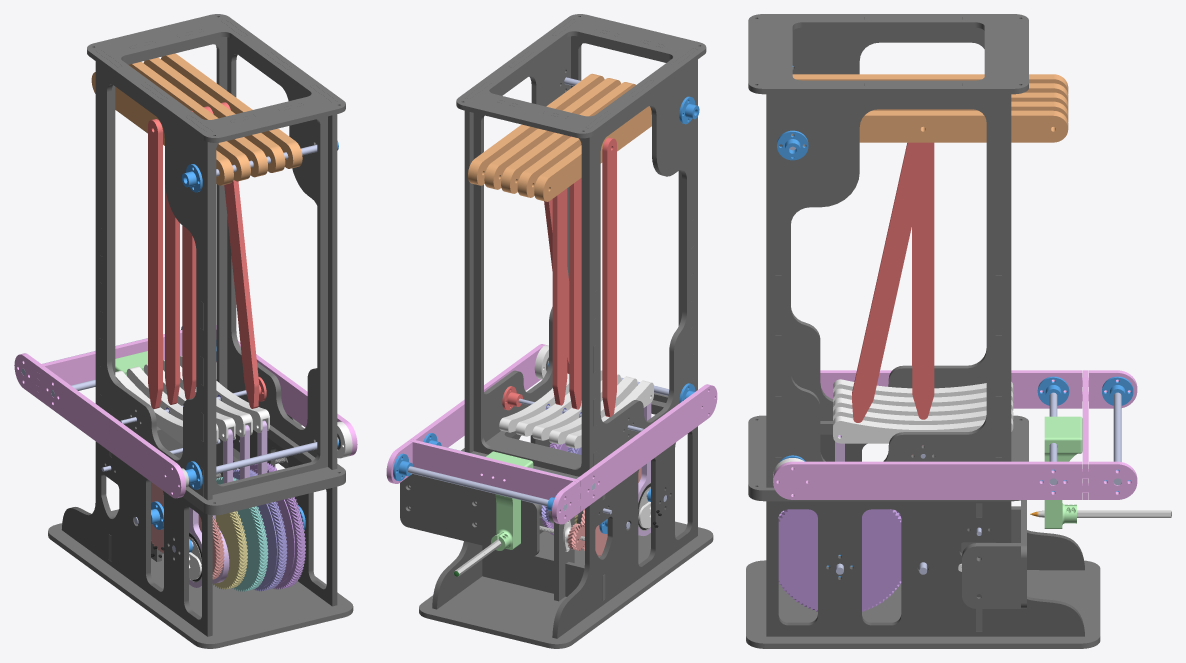
3 renders of one model, left to right at view 1: azimuth 30°, elevation 25°; view 2: azimuth 150°, elevation 25°; view 3: azimuth 270°, elevation 25°, orthographic. The views are drawn at different scales.
Parts seen in each view (by area): view 1: StageTwoSides_205-1, Chassis_Sides201-1, StageTwoSides_205-2, StageOneTop_204-3, Chassis_Bottom_200-1, StageTwoSupports_206-2, PenArms_402-2, StageTwoSupports_206-1, MagnifyingArm_301-1, MagnifyingArm_301-9, Chassis_Sides201-2, StageOneTop_204-2 (+22 smaller); view 2: StageTwoSides_205-1, Chassis_Sides201-1, Chassis_Bottom_200-1, StageOneTop_204-3, StageTwoSides_205-2, NotepadHolder_502-1, StageTwoSupports_206-1, PenArms_402-2, PenArmConnector_403-1, MagnifyingArm_301-1, MagnifyingArm_301-8, MagnifyingArm_301-7 (+20 smaller); view 3: StageTwoSides_205-2, Chassis_Sides201-2, PenArms_402-1, StageOneTop_204-3, Chassis_Bottom_200-1, StageTwoSides_205-1, 100-1/100LH-1, MagnifyingArm_301-9, MagnifyingLever_302-7, MagnifyingArm_301-8, PenArms_402-2, CrankShaft_NotepadHolder_501-3 (+18 smaller).
Part boxes in pixels (left/top/right/bottom): StageTwoSides_205-1: left=95, top=49, right=212, bottom=500; Chassis_Sides201-1: left=61, top=441, right=212, bottom=636; StageTwoSides_205-2: left=220, top=19, right=337, bottom=469; StageOneTop_204-3: left=87, top=14, right=345, bottom=142; Chassis_Bottom_200-1: left=48, top=509, right=353, bottom=648; StageTwoSupports_206-2: left=200, top=103, right=327, bottom=496; PenArms_402-2: left=14, top=353, right=185, bottom=498; StageTwoSupports_206-1: left=99, top=29, right=227, bottom=408; MagnifyingArm_301-1: left=148, top=119, right=162, bottom=409; MagnifyingArm_301-9: left=221, top=102, right=259, bottom=408; Chassis_Sides201-2: left=233, top=430, right=337, bottom=606; StageOneTop_204-2: left=156, top=425, right=345, bottom=510; StageTwoSides_205-1: left=585, top=48, right=697, bottom=472; Chassis_Sides201-1: left=552, top=426, right=697, bottom=638; Chassis_Bottom_200-1: left=419, top=521, right=713, bottom=648; StageOneTop_204-3: left=456, top=14, right=706, bottom=138; StageTwoSides_205-2: left=464, top=19, right=577, bottom=452; NotepadHolder_502-1: left=400, top=474, right=539, bottom=557; StageTwoSupports_206-1: left=473, top=100, right=596, bottom=476; PenArms_402-2: left=552, top=384, right=717, bottom=524; PenArmConnector_403-1: left=408, top=439, right=580, bottom=513; MagnifyingArm_301-1: left=602, top=137, right=616, bottom=417; MagnifyingArm_301-8: left=552, top=132, right=567, bottom=405; MagnifyingArm_301-7: left=569, top=136, right=581, bottom=409; StageTwoSides_205-2: left=766, top=83, right=1011, bottom=487; Chassis_Sides201-2: left=766, top=501, right=1084, bottom=636; PenArms_402-1: left=773, top=461, right=1137, bottom=499; StageOneTop_204-3: left=748, top=14, right=1028, bottom=94; Chassis_Bottom_200-1: left=746, top=560, right=1100, bottom=648; StageTwoSides_205-1: left=766, top=17, right=1011, bottom=420; 100-1/100LH-1: left=778, top=509, right=901, bottom=611; MagnifyingArm_301-9: left=852, top=142, right=930, bottom=422; MagnifyingLever_302-7: left=859, top=110, right=1068, bottom=142; MagnifyingArm_301-8: left=912, top=142, right=934, bottom=419; PenArms_402-2: left=820, top=370, right=1137, bottom=408; CrankShaft_NotepadHolder_501-3: left=962, top=543, right=1020, bottom=608.
Size of the model in its own units: 0.2726 by 0.623 by 0.4327.
